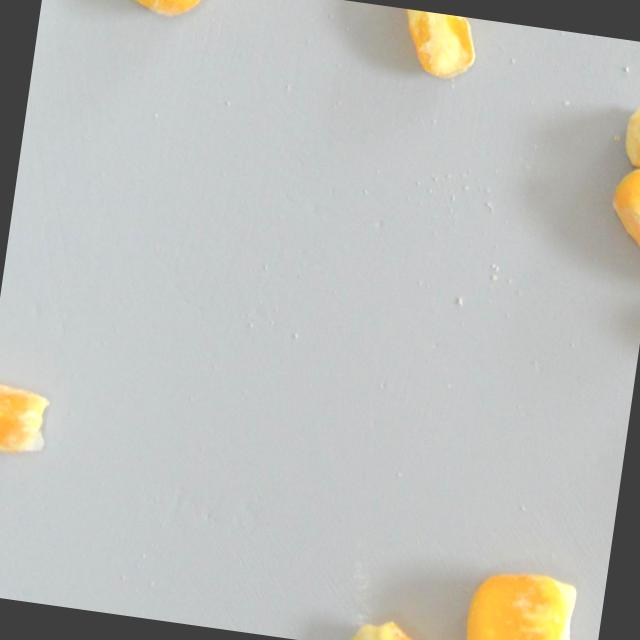pelicula: (460, 566, 585, 640), (388, 8, 479, 83), (598, 161, 640, 283), (0, 374, 56, 463), (118, 0, 213, 22), (616, 104, 640, 177)
